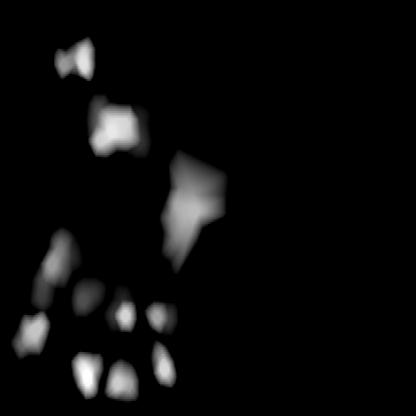fingers: (54, 39, 94, 79)
palm: (13, 278, 174, 396)
thumb: (46, 98, 224, 268)
